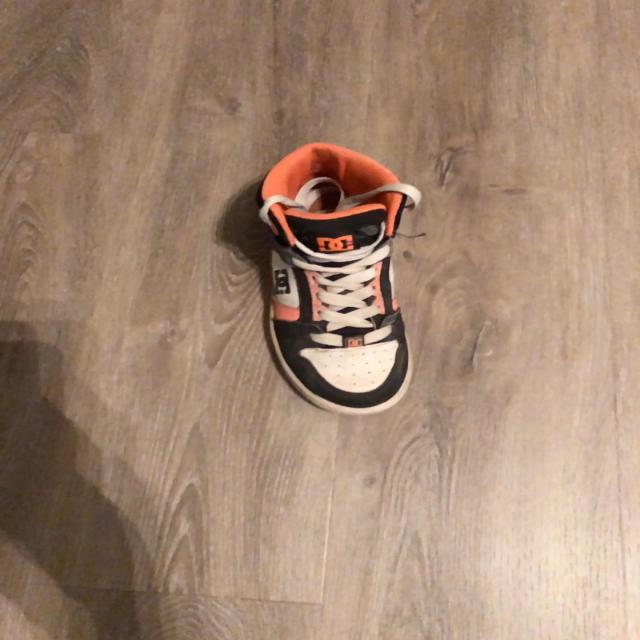shoe: (251, 143, 422, 418)
